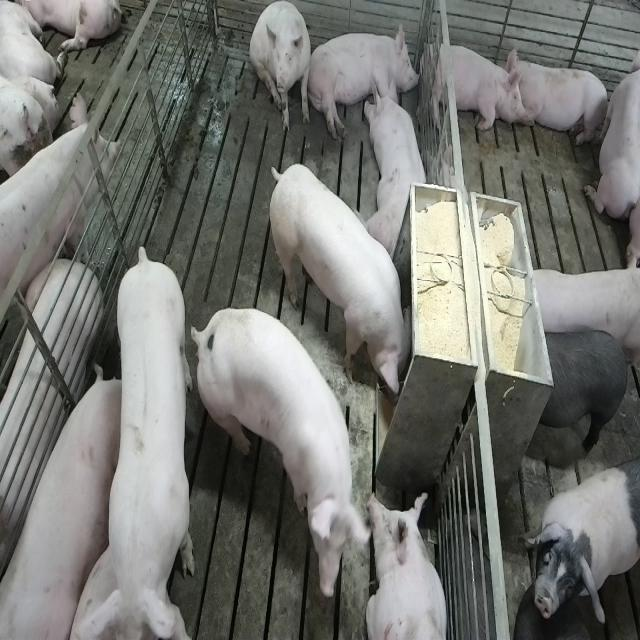Feeding: (264, 162, 410, 401)
Lateral_lying: (0, 262, 99, 604), (307, 20, 421, 142)
Sitting: (250, 2, 313, 134)
Standing: (192, 299, 376, 612), (78, 246, 198, 639), (0, 95, 119, 344), (525, 462, 637, 624), (533, 325, 632, 461), (522, 269, 637, 367)
Sternal_lying: (365, 490, 449, 640), (367, 74, 430, 258), (584, 34, 637, 228), (509, 51, 612, 150), (425, 36, 523, 135)
